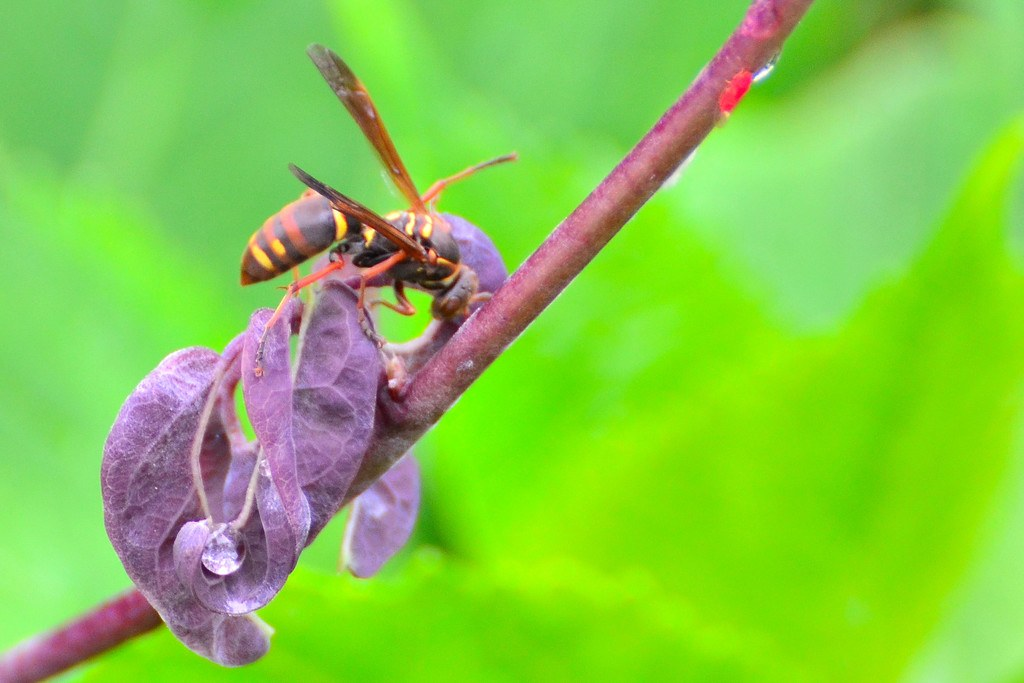bee: (221, 92, 525, 376)
